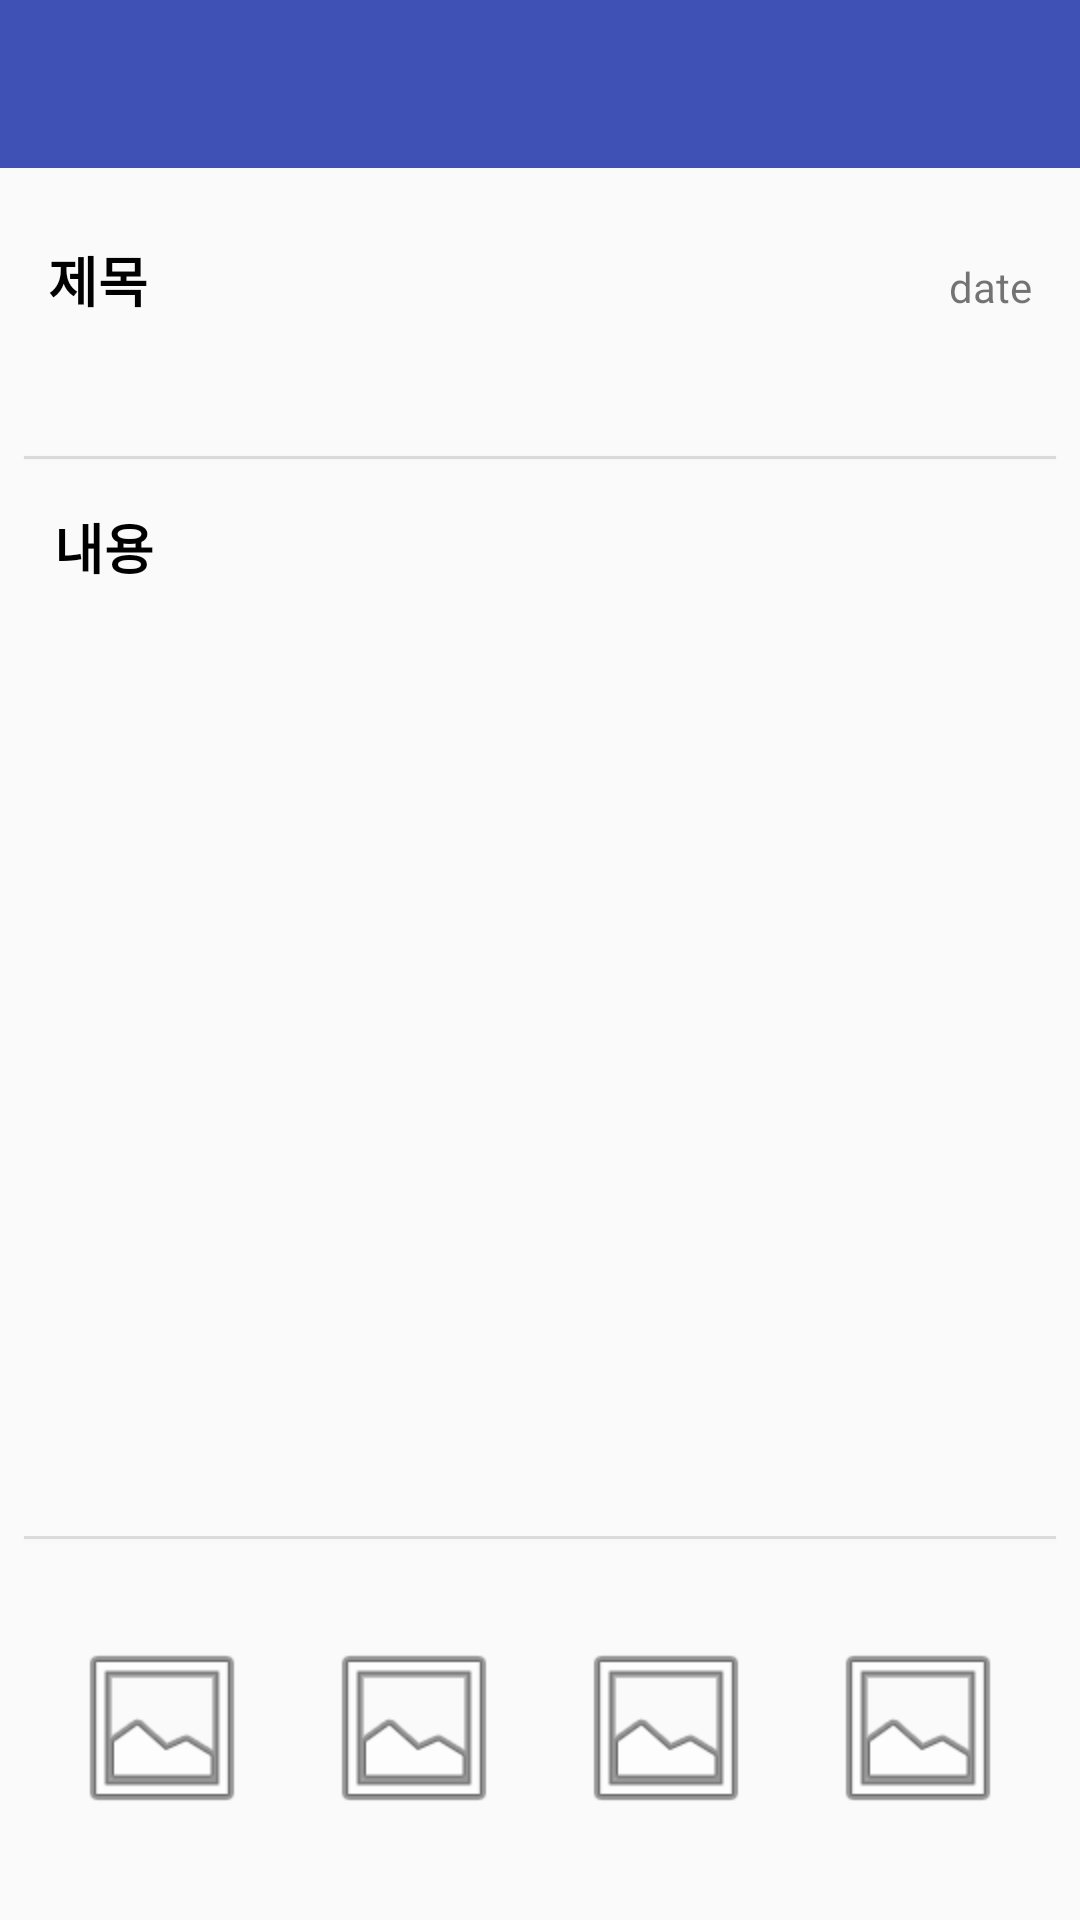

Screen size 1080 × 1920. Icon name, then its center in pixels as point (x, y):
gallery: point (162, 1728), point (414, 1728), point (666, 1728), point (918, 1728)
